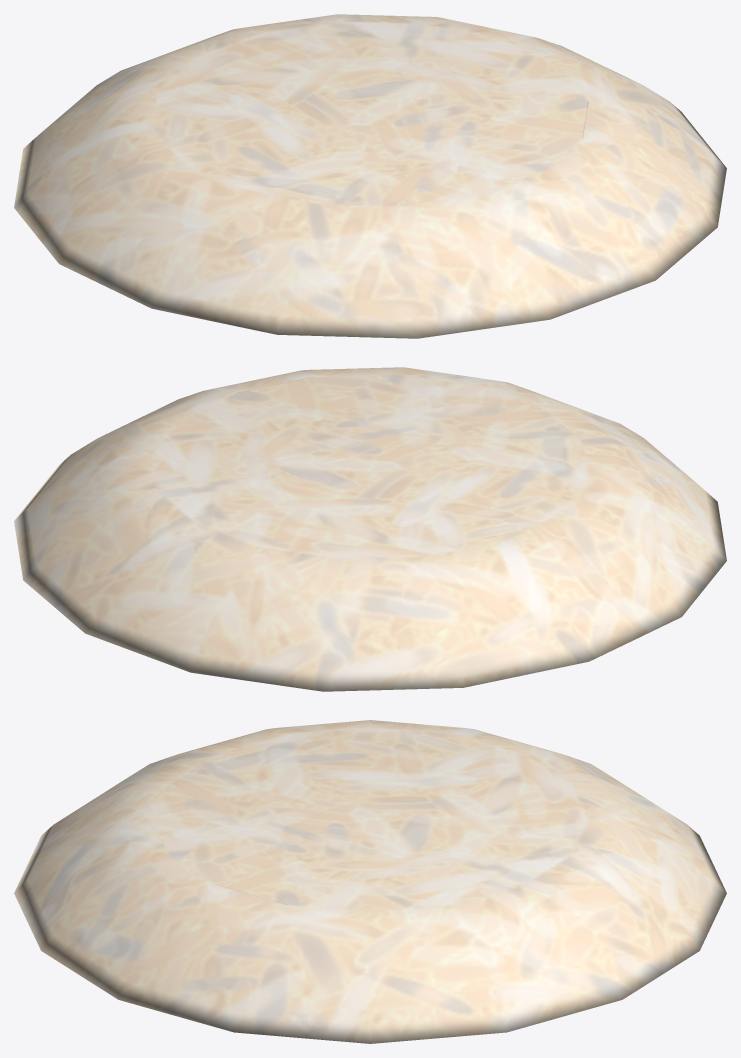
File: rice_cooked.fbx
3 renders of one model, top to bottom at view 1: azimuth 30°, elevation 25°; view 2: azimuth 150°, elevation 25°; view 3: azimuth 270°, elevation 25°, orthographic.
Parts seen in each view (by area): view 1: Circle.004; view 2: Circle.004; view 3: Circle.004.
Boxes of the visible parts, x1,y1,x2,y2 form: Circle.004: (14, 14, 726, 338); Circle.004: (14, 367, 726, 691); Circle.004: (14, 720, 726, 1043).
Size of the model in its own units: 28.27 by 3.22 by 28.27.
